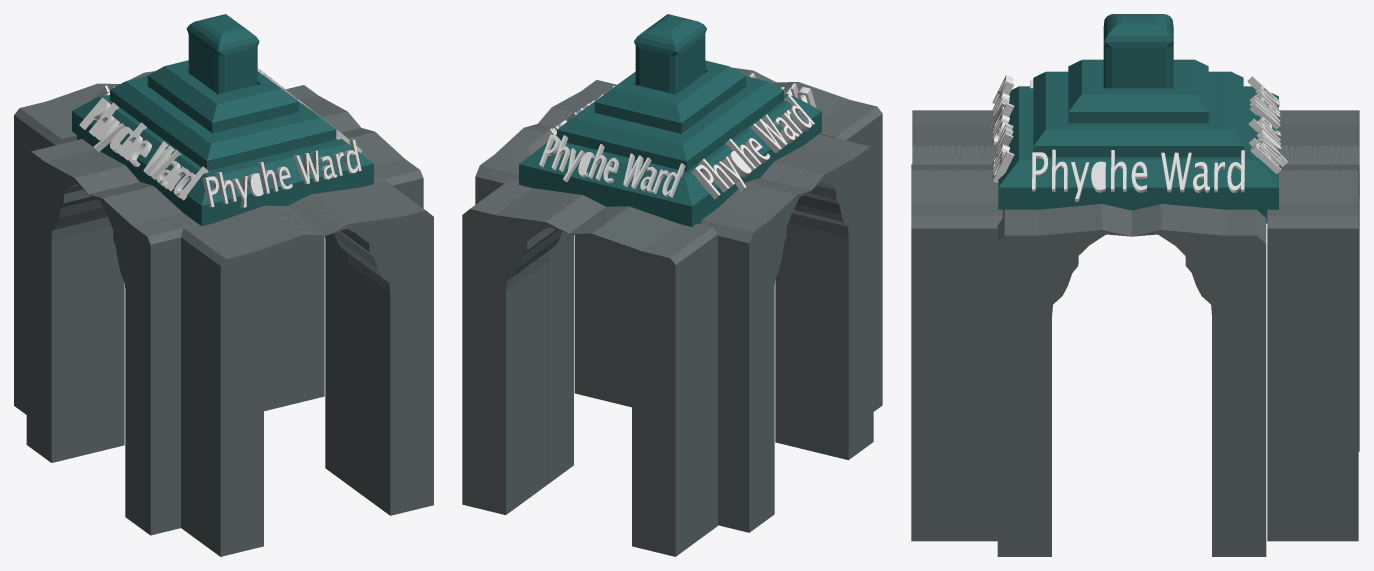
File: GateWay.fbx
3 views of the same model, side by side, from view 1: azimuth 30°, elevation 25°; view 2: azimuth 150°, elevation 25°; view 3: azimuth 270°, elevation 25° (orthographic). The views are drawn at different scales.
Parts seen in each view (by area): view 1: pCube5, pCube3, pCube6, pCube9, pCube4, pCube2, pCube1, pCube8, typeMesh2, typeMesh1; view 2: pCube8, pCube4, pCube7, pCube9, pCube3, pCube1, pCube2, pCube5, typeMesh2, typeMesh4; view 3: pCube9, pCube7, pCube6, pCube2, pCube1, pCube8, pCube5, typeMesh3, typeMesh4, typeMesh1.
Part boxes in pixels (left/top/right/bottom): pCube5: left=181, top=205, right=326, bottom=556; pCube3: left=26, top=139, right=139, bottom=462; pCube6: left=287, top=180, right=433, bottom=515; pCube9: left=72, top=14, right=373, bottom=226; pCube4: left=89, top=182, right=198, bottom=535; pCube2: left=264, top=85, right=361, bottom=411; pCube1: left=325, top=128, right=423, bottom=484; pCube8: left=14, top=83, right=119, bottom=414; typeMesh2: left=79, top=97, right=208, bottom=200; typeMesh1: left=202, top=139, right=361, bottom=207; pCube8: left=568, top=206, right=717, bottom=556; pCube4: left=760, top=134, right=873, bottom=460; pCube7: left=462, top=178, right=605, bottom=514; pCube9: left=519, top=14, right=821, bottom=226; pCube3: left=700, top=178, right=810, bottom=532; pCube1: left=538, top=80, right=631, bottom=407; pCube2: left=475, top=124, right=573, bottom=483; pCube5: left=773, top=82, right=882, bottom=411; typeMesh2: left=691, top=94, right=814, bottom=199; typeMesh4: left=539, top=134, right=685, bottom=197; pCube9: left=998, top=14, right=1278, bottom=223; pCube7: left=1267, top=164, right=1358, bottom=541; pCube6: left=911, top=164, right=1002, bottom=541; pCube2: left=1132, top=204, right=1266, bottom=556; pCube1: left=997, top=204, right=1131, bottom=556; pCube8: left=1279, top=110, right=1359, bottom=451; pCube5: left=912, top=110, right=995, bottom=164; typeMesh3: left=1032, top=149, right=1244, bottom=201; typeMesh4: left=1247, top=76, right=1287, bottom=174; typeMesh1: left=989, top=75, right=1014, bottom=182.
Size of the model in its own units: 2.67 by 4.03 by 3.51.
